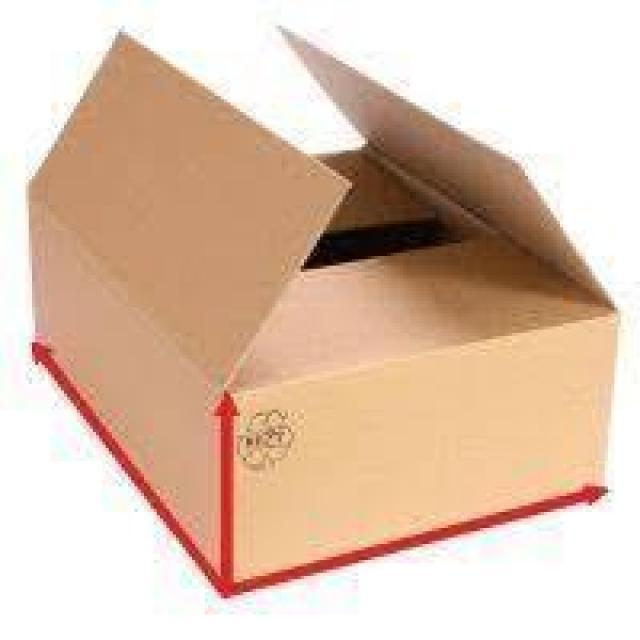box: (29, 26, 618, 599)
